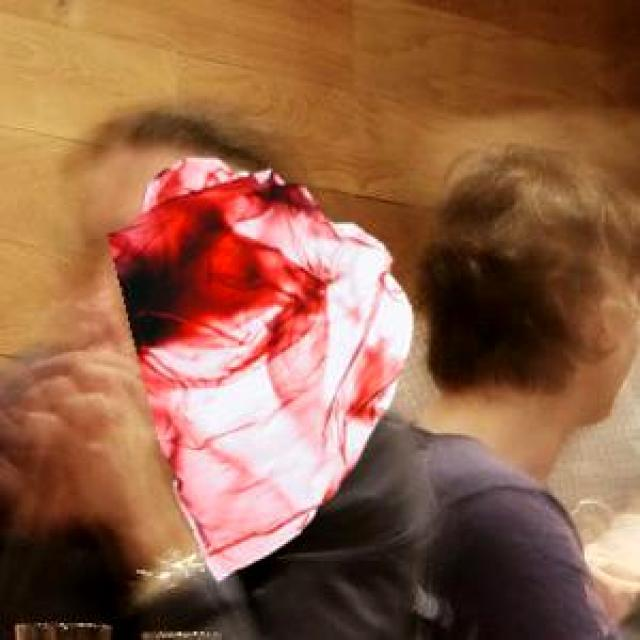Plastic_Bag: (104, 155, 410, 578)
